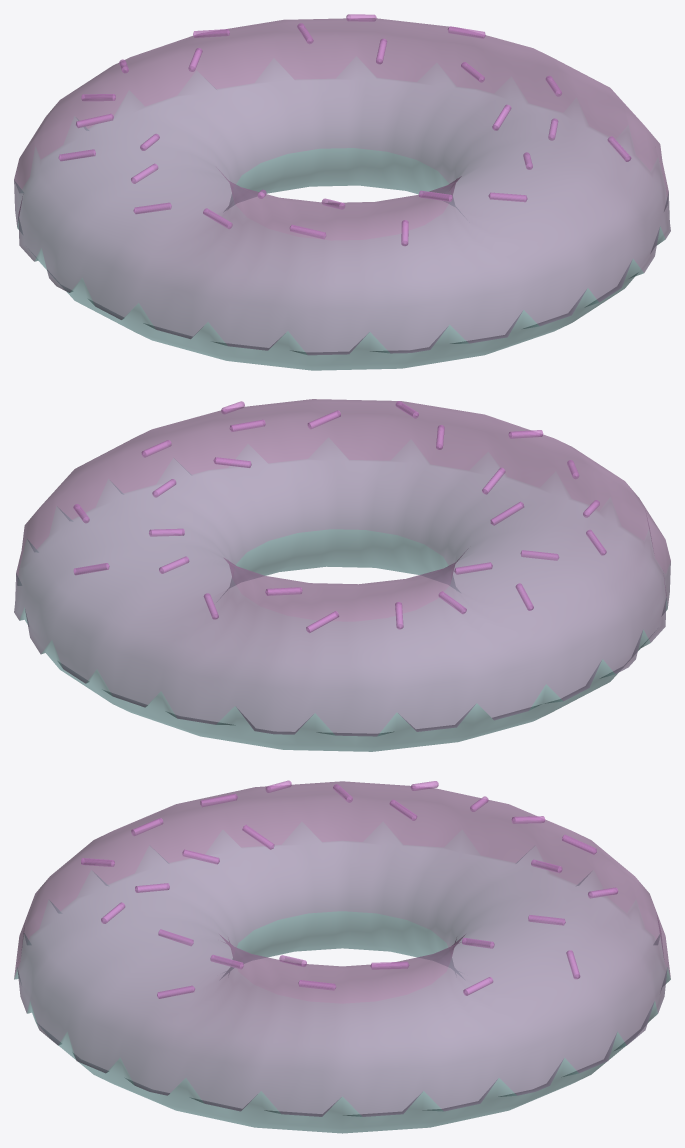
Rendered from Donut inflatable_.fbx.
3 renders of one model, top to bottom at view 1: azimuth 30°, elevation 25°; view 2: azimuth 150°, elevation 25°; view 3: azimuth 270°, elevation 25°, orthographic.
Visible parts, largest first — view 1: pTorus4; view 2: pTorus4; view 3: pTorus4.
Part boxes in pixels (x1,y1,x2,y2): pTorus4: (14, 18, 670, 370); pTorus4: (14, 399, 670, 751); pTorus4: (14, 781, 670, 1133).
Size of the model in its own units: 2.19 by 0.5296 by 2.19.
